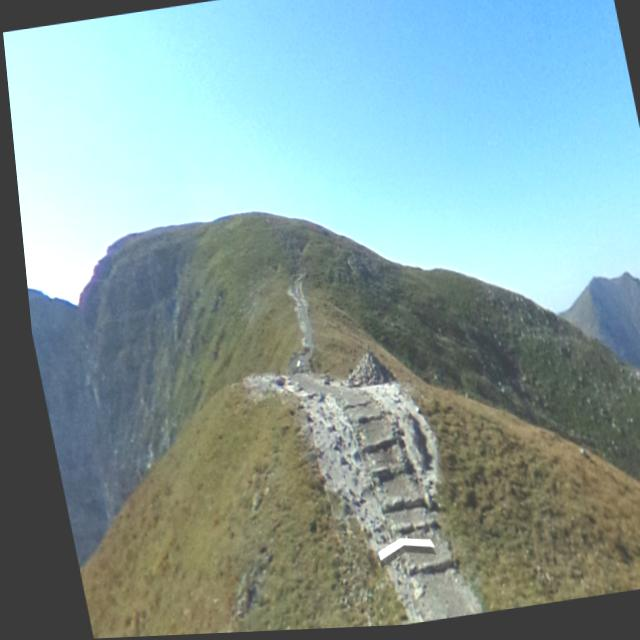Smreciny: (530, 172, 640, 377)
Velka Kamenista: (605, 196, 640, 318)
